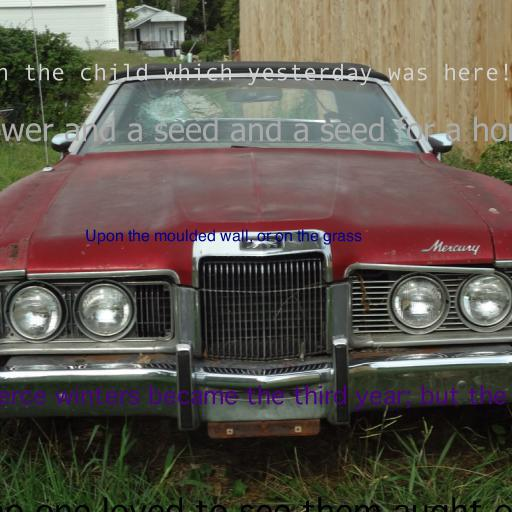Andale Mono: (0, 63, 512, 86)
Geneva: (0, 385, 512, 410), (0, 497, 512, 512)
SignPainter: (84, 229, 362, 245)
Tahoma: (0, 116, 512, 148)
